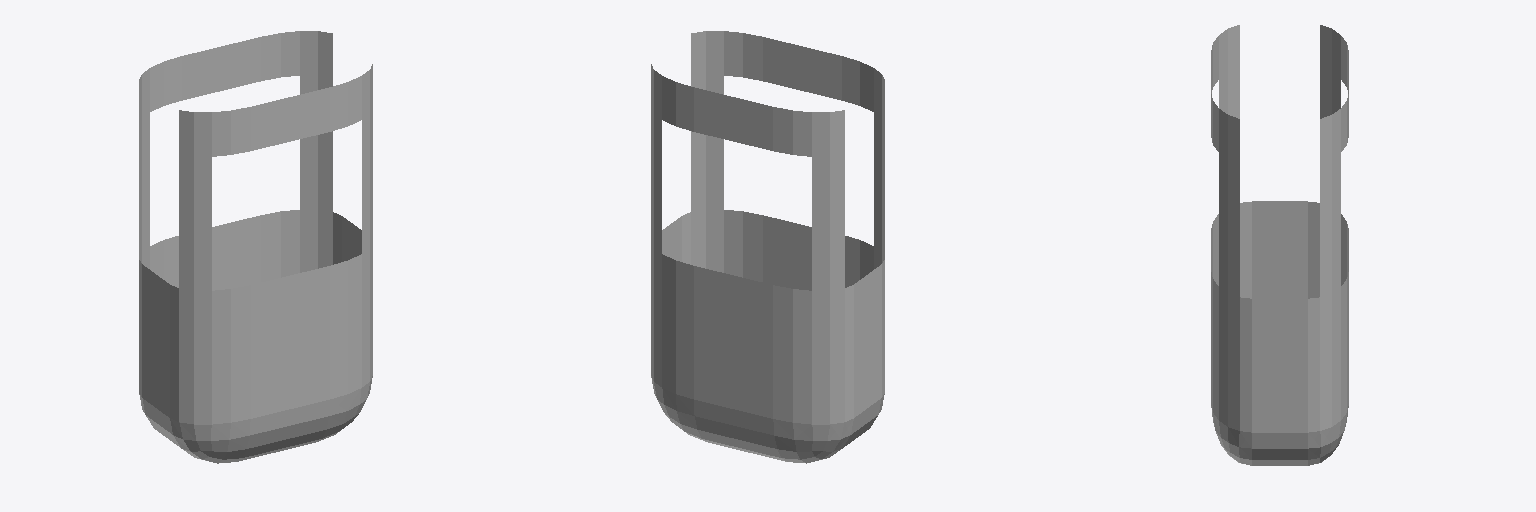
The model's file is bag3-1.obj.
3 views of the same model, side by side, from view 1: azimuth 30°, elevation 25°; view 2: azimuth 150°, elevation 25°; view 3: azimuth 270°, elevation 25° (orthographic).
Visible parts, largest first — view 1: Cube-0-1.080_Cube.195; view 2: Cube-0-1.080_Cube.195; view 3: Cube-0-1.080_Cube.195.
Boxes of the visible parts, x1,y1,x2,y2 form: Cube-0-1.080_Cube.195: [139, 31, 372, 463]; Cube-0-1.080_Cube.195: [651, 31, 884, 463]; Cube-0-1.080_Cube.195: [1211, 25, 1348, 465].
Bounding box in the file's own units: 2 × 3.53 × 1.2.